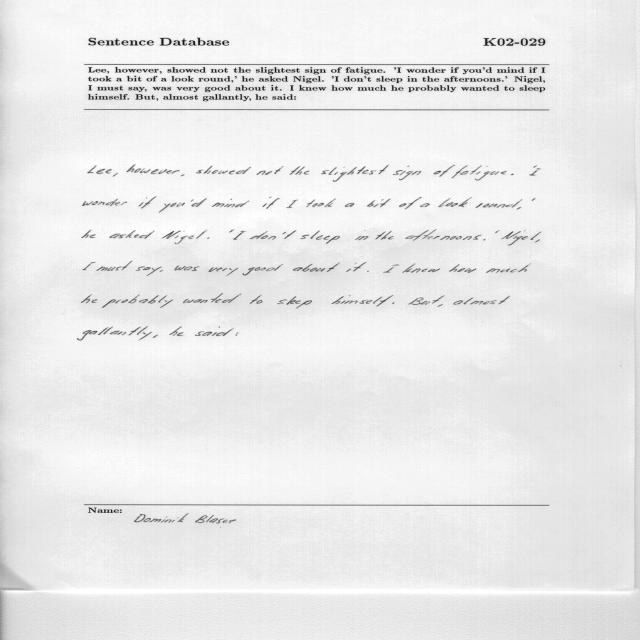word: (321, 165, 389, 182), (78, 327, 152, 341), (102, 294, 173, 308), (406, 230, 482, 241), (452, 166, 507, 181), (332, 295, 394, 306), (162, 230, 207, 244), (183, 293, 242, 303), (301, 230, 340, 244), (127, 165, 180, 175), (453, 296, 510, 305), (508, 231, 541, 246), (293, 262, 340, 272), (250, 230, 296, 240), (277, 296, 312, 309), (242, 264, 283, 275), (196, 166, 251, 174), (393, 166, 421, 181), (476, 199, 522, 208), (110, 230, 155, 239), (486, 264, 530, 273), (402, 263, 440, 273), (97, 261, 133, 271), (409, 295, 445, 305), (195, 327, 234, 336), (438, 197, 472, 207), (212, 199, 249, 208), (83, 199, 127, 206), (209, 267, 238, 277), (399, 197, 422, 209), (434, 165, 456, 177), (159, 203, 185, 213), (136, 266, 162, 276), (257, 166, 284, 175), (449, 264, 476, 273), (306, 199, 336, 207), (88, 165, 112, 174), (263, 197, 280, 209), (347, 262, 367, 272), (367, 199, 391, 207), (139, 197, 156, 208), (290, 166, 309, 175), (483, 230, 500, 240), (376, 231, 394, 240), (501, 232, 521, 240), (175, 265, 200, 271), (191, 198, 207, 207), (82, 294, 98, 303), (170, 326, 184, 336), (383, 265, 399, 273), (233, 231, 246, 240), (250, 295, 263, 304), (82, 230, 95, 238), (83, 262, 96, 270), (286, 200, 298, 208), (529, 169, 541, 176), (356, 236, 369, 240), (420, 203, 430, 207), (345, 203, 354, 207), (113, 173, 118, 177), (437, 304, 443, 307), (229, 230, 234, 233), (535, 240, 540, 243), (153, 335, 158, 338), (533, 165, 537, 168), (517, 207, 521, 210), (532, 198, 536, 201), (236, 333, 239, 336), (181, 174, 184, 176), (207, 237, 210, 239), (160, 270, 163, 272), (392, 302, 395, 304), (511, 174, 514, 175), (367, 271, 369, 272)
